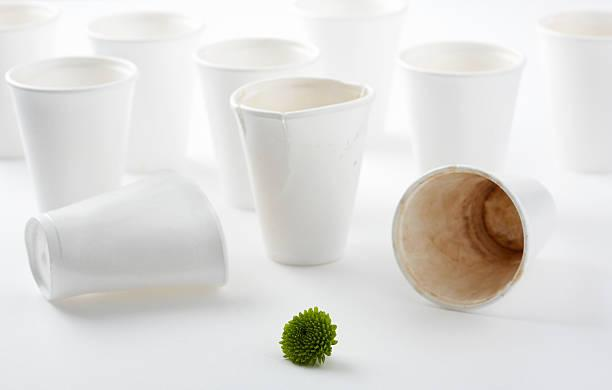PS: (367, 123, 599, 345), (209, 53, 386, 285), (0, 48, 148, 215)
